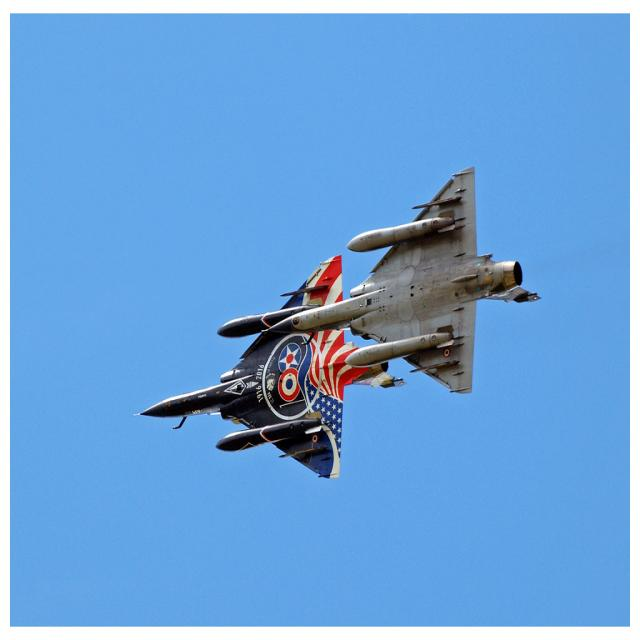MIL_Plane: (262, 166, 542, 394), (133, 254, 408, 479)
